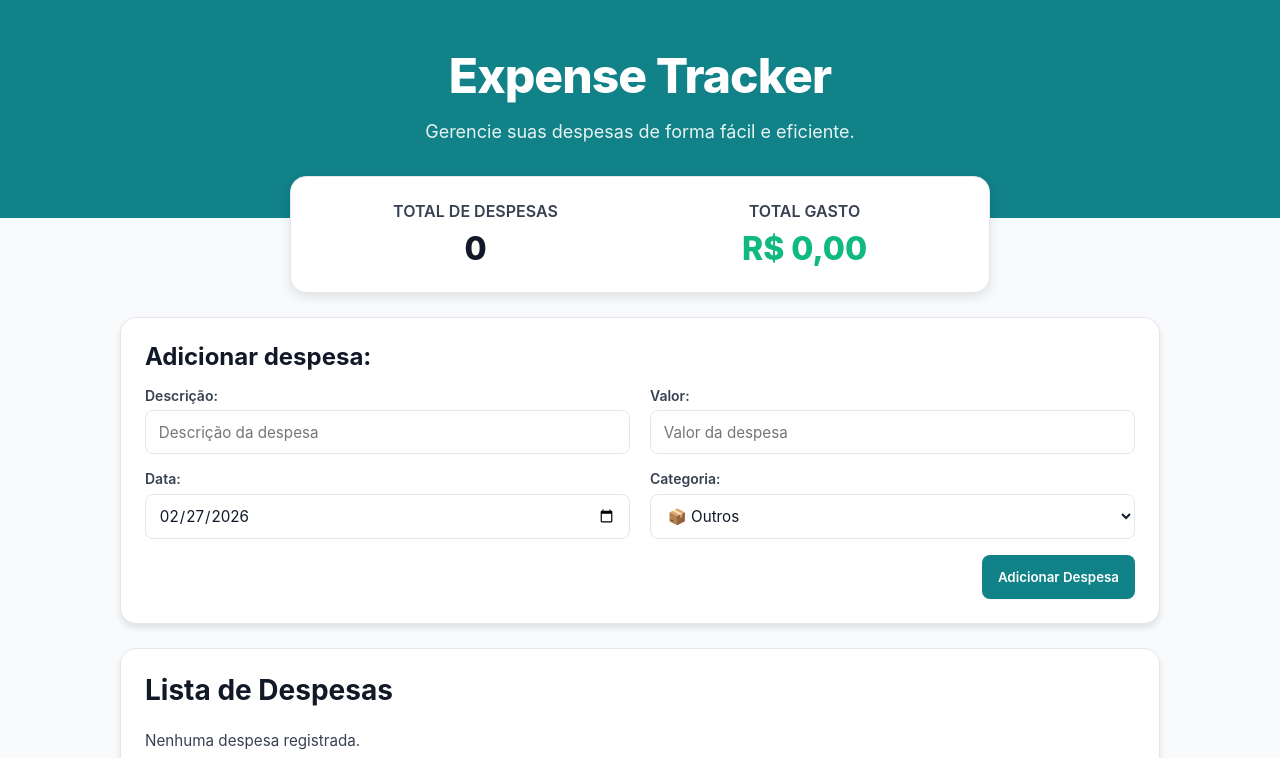
Test: App - Integração › deve adicionar e deletar uma despesa (fluxo completo)
Note: Preencher o form
Type "Café da manhã" into the field labelled "Descrição:".
click(388, 432); type("Café da manhã")  # box [145, 410, 630, 454]
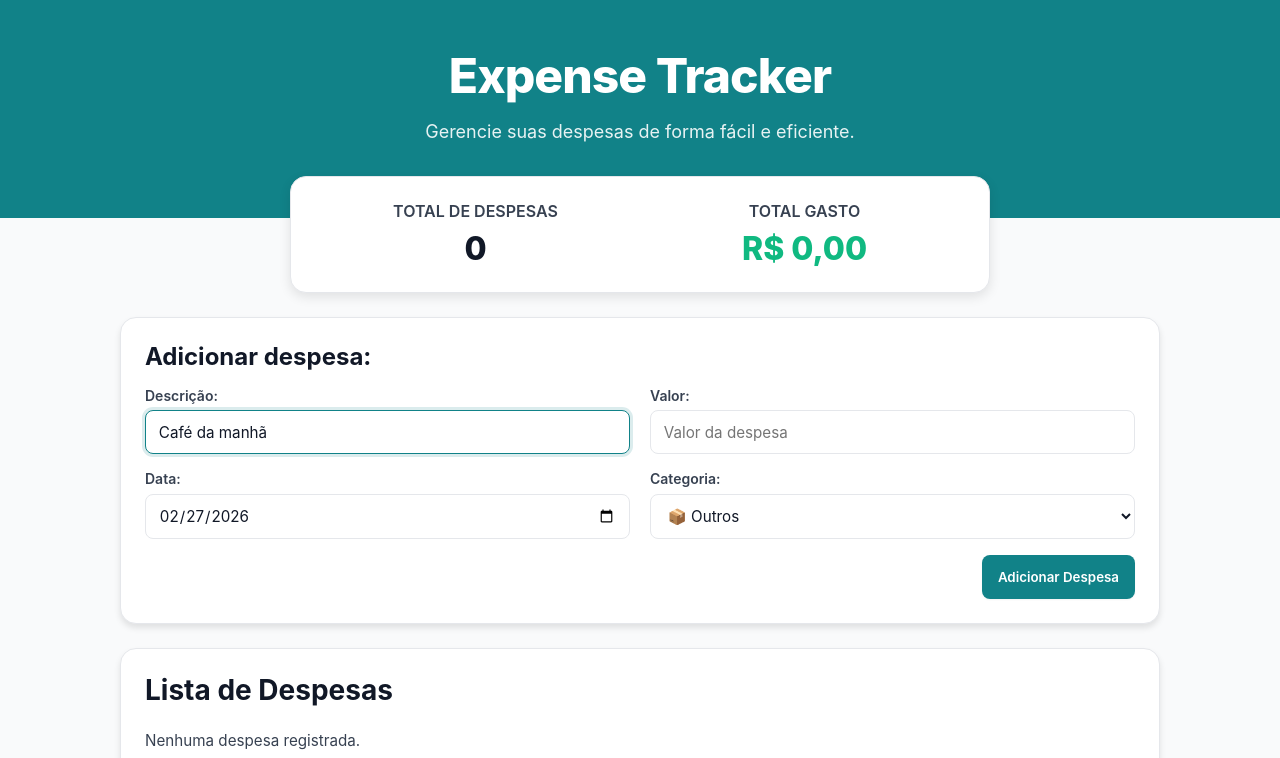
Type "25.50" into the number field labelled "Valor:".
click(892, 432); type("25.50")  # box [650, 410, 1135, 454]
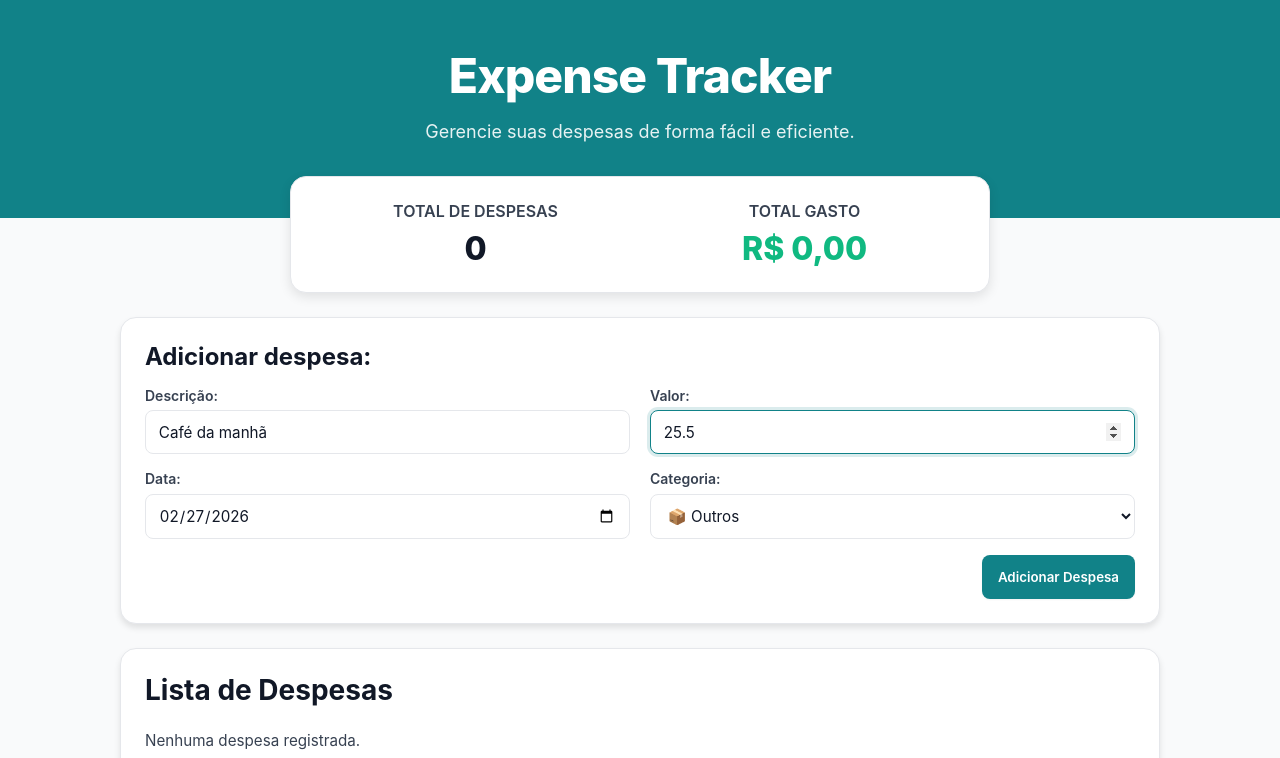
Note: Submeter o form
Click the button "Adicionar Despesa".
click(1058, 577)  # box [982, 555, 1135, 599]
(page scrolled)
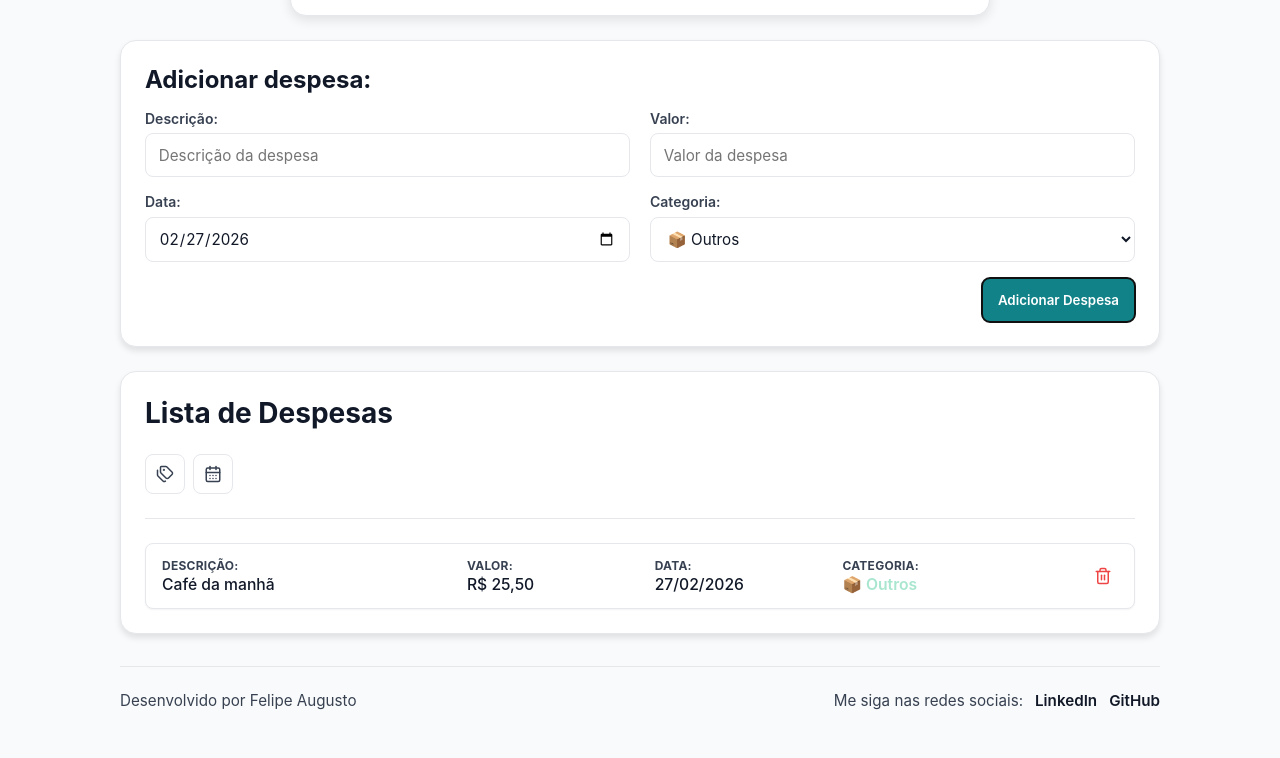
Now the text "Café da manhã" is shown, box [162, 575, 275, 594]
Now the text "R$ 25,50" in the row of "Café da manhã" is shown, box [467, 575, 534, 594]
Note: Clicar no botão de deletar
Click the button named "Deletar despesa Café da manhã".
click(1103, 576)  # box [1089, 561, 1118, 590]
(page scrolled)
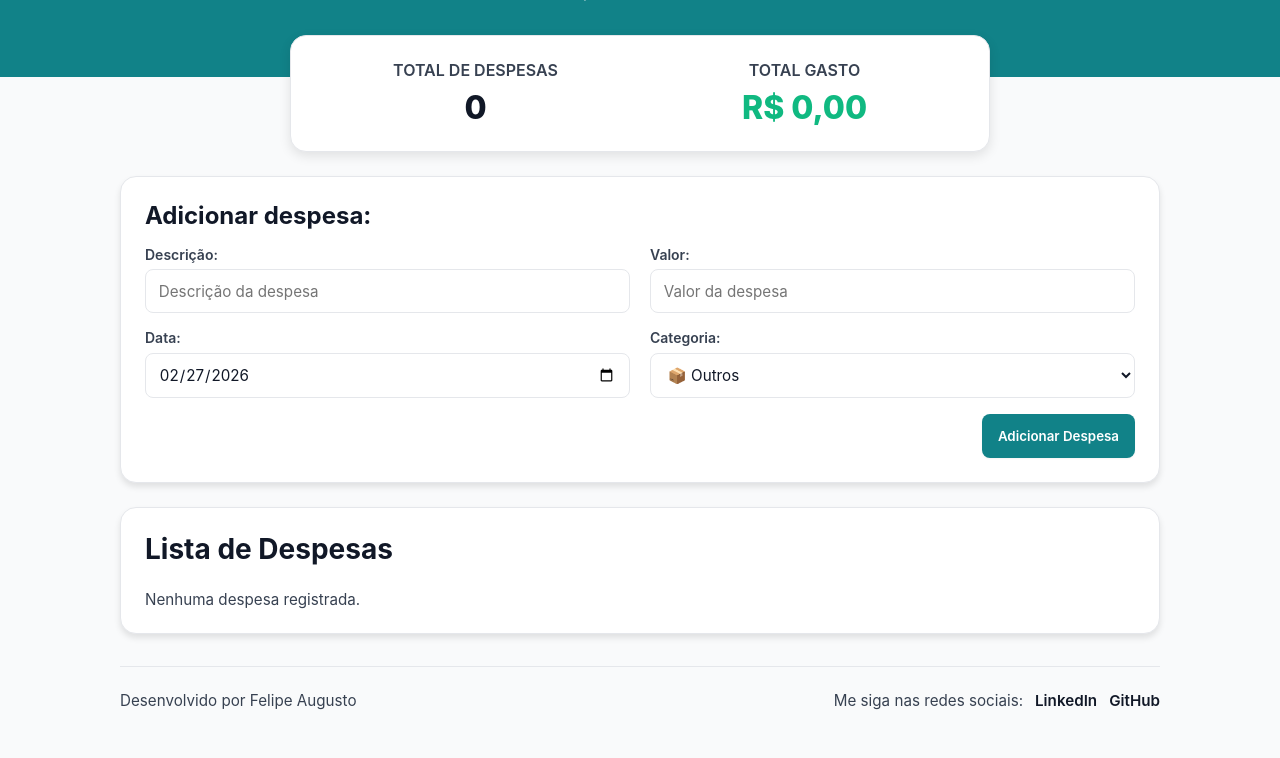
Now the text "Café da manhã" is gone
Now the text "Nenhuma despesa registrada." is shown, box [145, 590, 360, 609]
